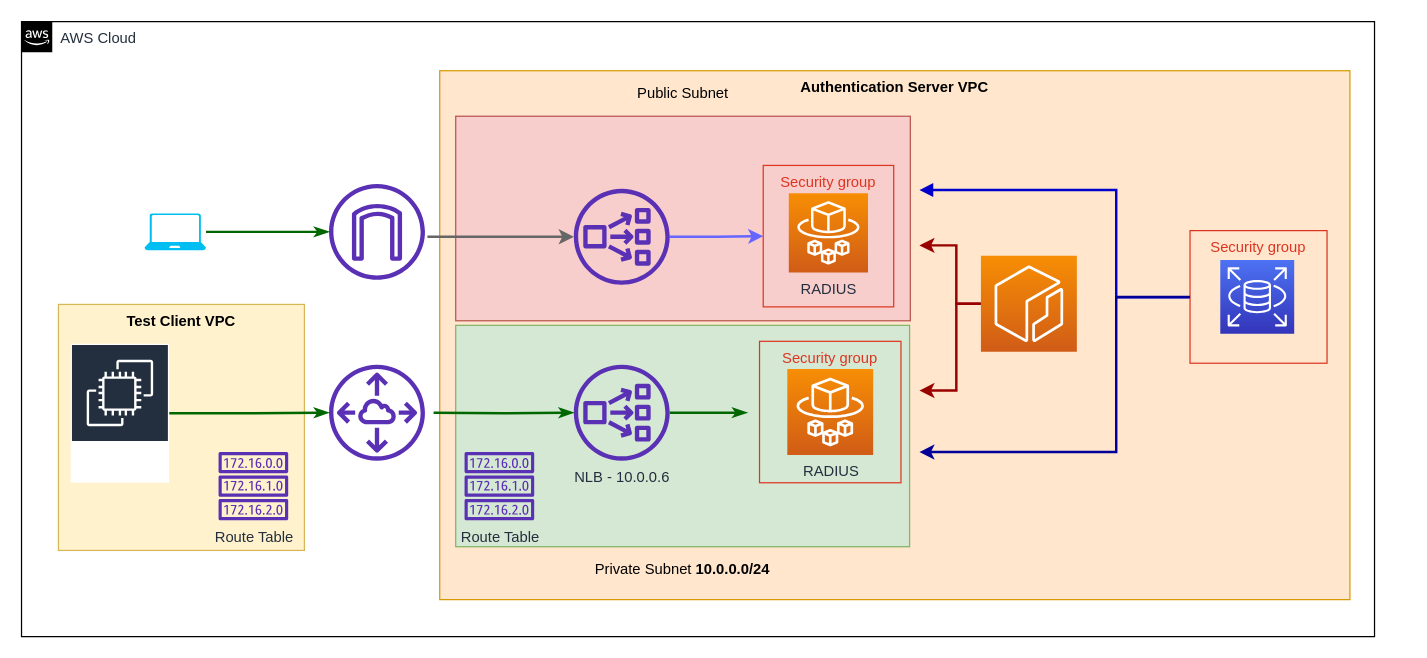
The diagram is 1427 pixels wide and 658 high, and some of its shapes have lost their labels. Each missing label, with the centre of its shape:
"Amazon EC2 - eapol_test" goes at pixel 119 413.
"ECR" goes at pixel 1028 303.
"Internet Gateway" goes at pixel 376 231.
"NLB - 18.135.199.166" goes at pixel 621 236.
"RDS" goes at pixel 1256 296.
"VPC Peering Connection" goes at pixel 376 412.
